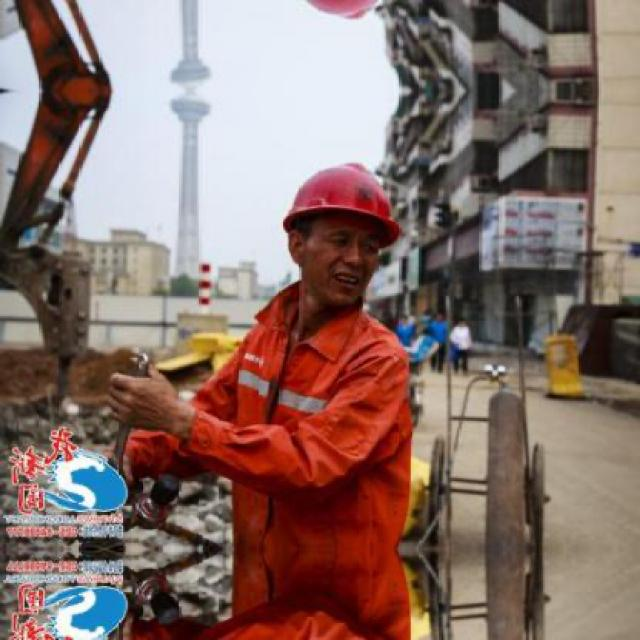helmet: (258, 150, 408, 310), (258, 0, 409, 34)
